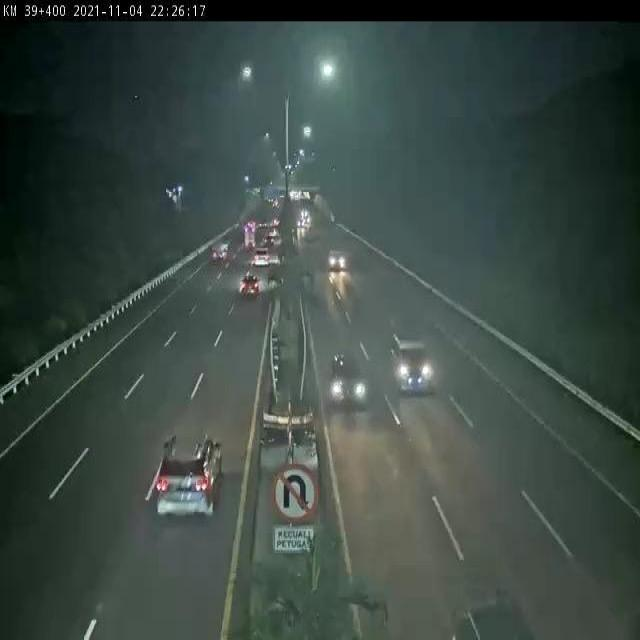car: (155, 427, 227, 522), (391, 320, 444, 404), (331, 353, 376, 418), (321, 241, 348, 291), (233, 272, 271, 301)
